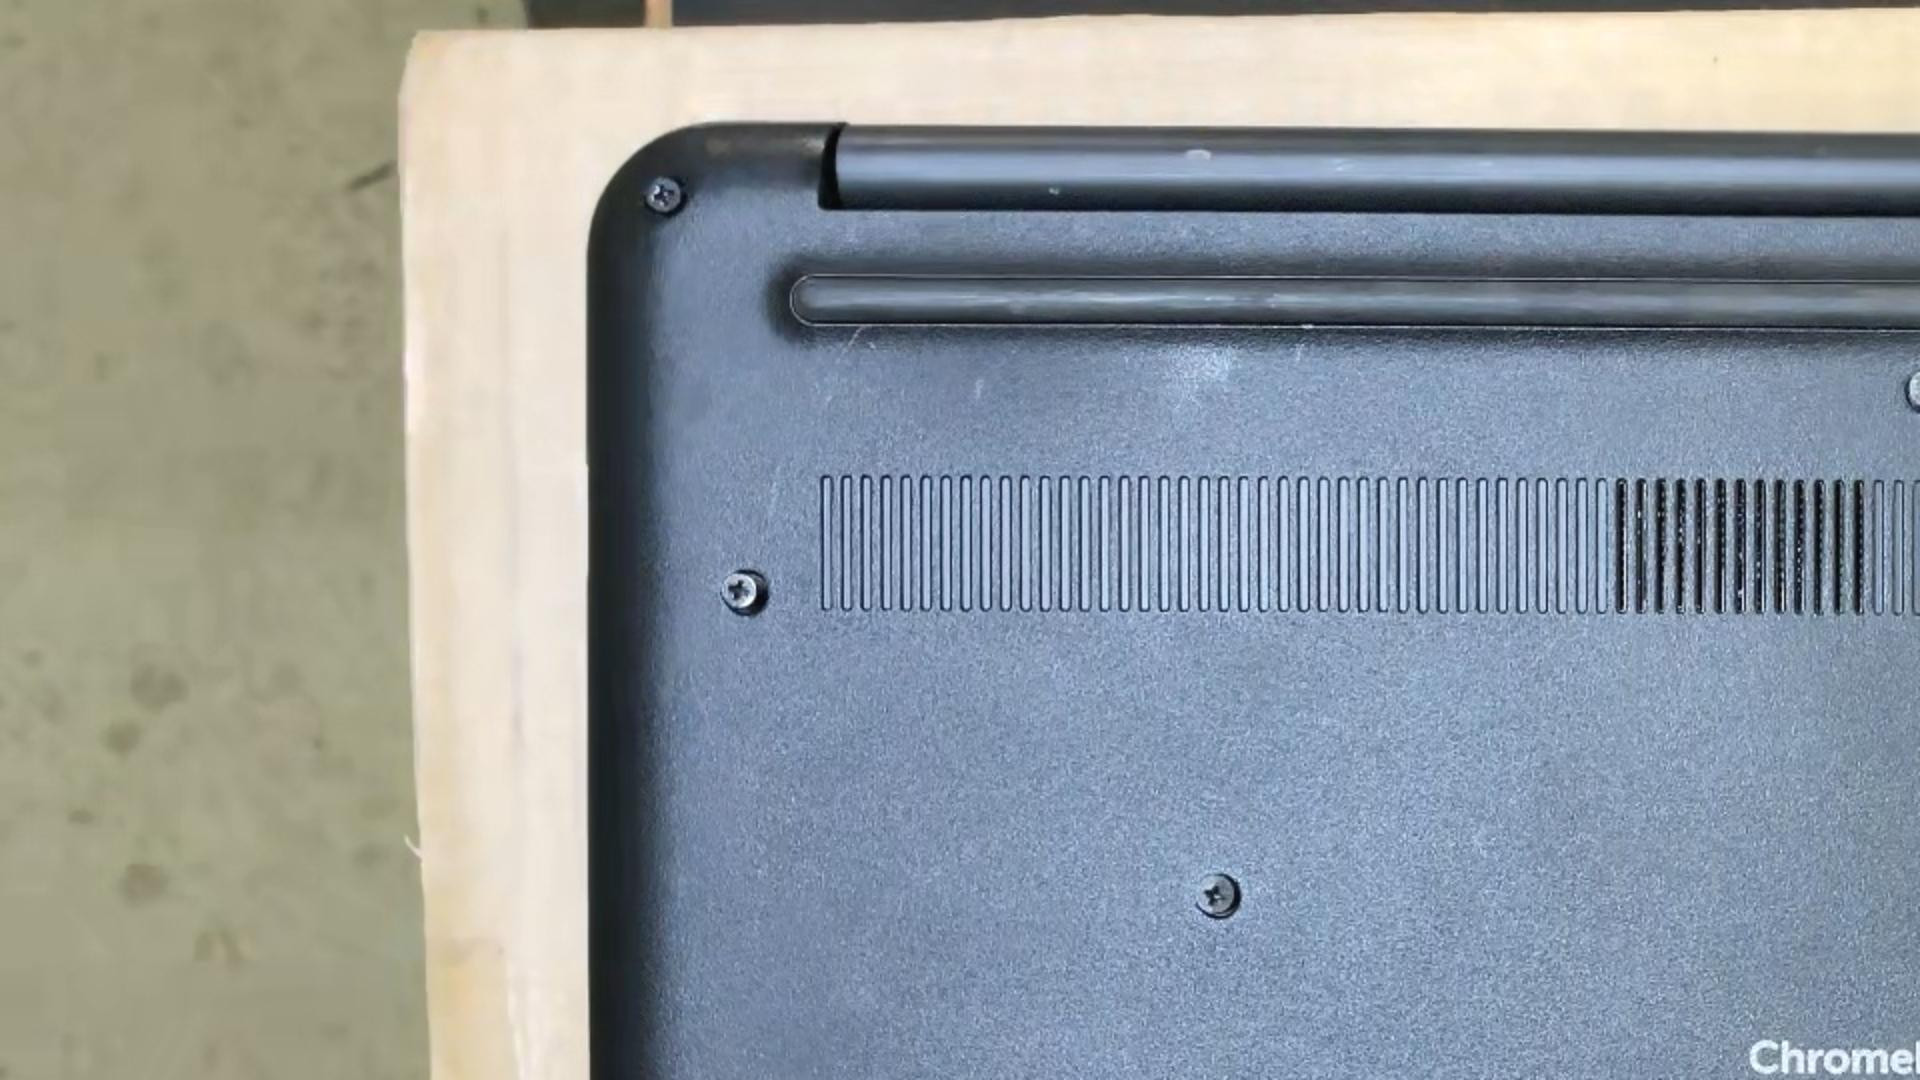chip: (1292, 340, 1305, 367), (975, 378, 988, 400), (1046, 186, 1063, 195)
scratches: (833, 324, 869, 365), (764, 462, 783, 522)
